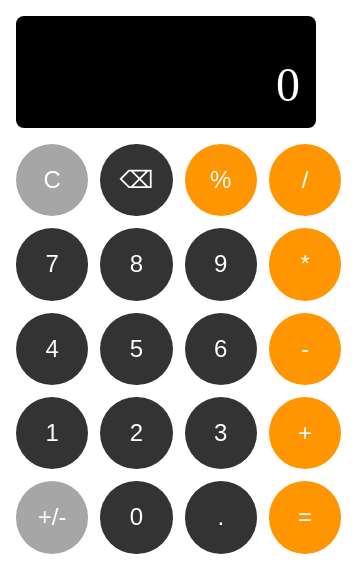
it: Calculadora › invierte el signo con el botón +/-
Click the button "3" at [221, 433], box [185,397,257,469]
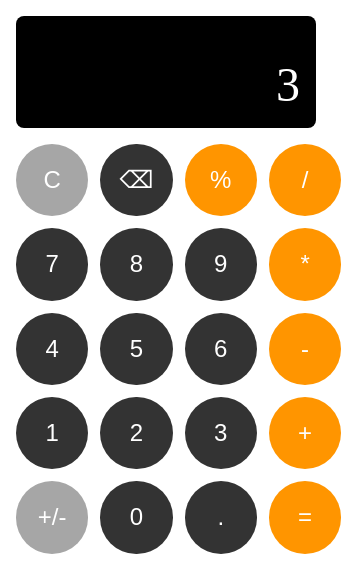
Click the button "+/-" at [52, 517], box [16,481,88,554]
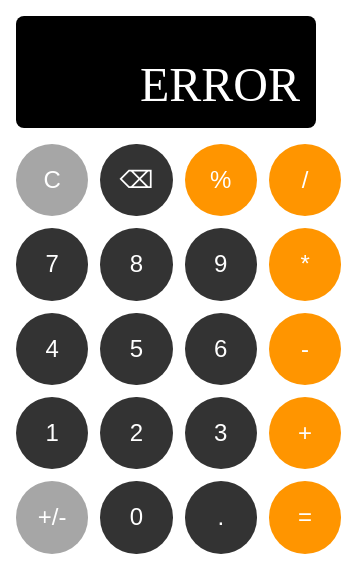
Expected: the text with test id "display" reads "ERROR", [140,58,300,111]
